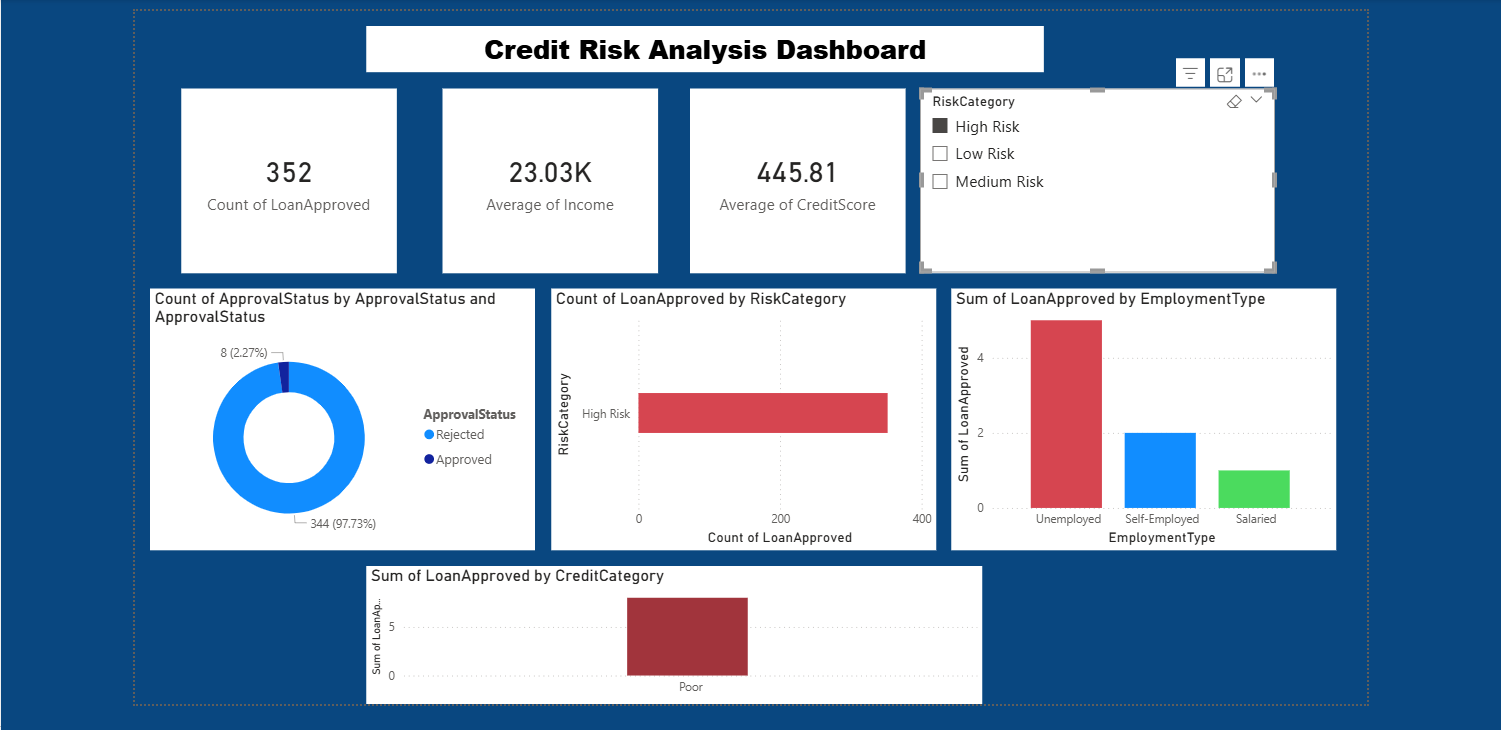

What the dashboard file says about the page in this screenshot:
{"tool":"powerbi","page":{"name":"Page 1","canvas":[1280,720],"ordinal":0},"visuals":[{"type":"donutChart","fields":{"Category":["loan_risk_prediction_dataset.ApprovalStatus"],"Series":["loan_risk_prediction_dataset.ApprovalStatus"],"Y":["CountNonNull(loan_risk_prediction_dataset.ApprovalStatus)"]},"box":[16,288,400,272],"z":0},{"type":"clusteredColumnChart","fields":{"Category":["loan_risk_prediction_dataset.EmploymentType"],"Y":["Sum(loan_risk_prediction_dataset.LoanApproved)"]},"box":[848,288,400,272],"z":1000},{"type":"clusteredColumnChart","fields":{"Category":["loan_risk_prediction_dataset.CreditCategory"],"Y":["Sum(loan_risk_prediction_dataset.LoanApproved)"]},"box":[240,576,640,144],"z":2000},{"type":"clusteredBarChart","fields":{"Category":["loan_risk_prediction_dataset.RiskCategory"],"Y":["CountNonNull(loan_risk_prediction_dataset.LoanApproved)"]},"box":[432,288,400,272],"z":3000},{"type":"card","fields":{"Values":["CountNonNull(loan_risk_prediction_dataset.LoanApproved)"]},"box":[48,80,224,192],"z":4000},{"type":"card","fields":{"Values":["Avg(loan_risk_prediction_dataset.CreditScore)"]},"box":[560,80,224,192],"z":5000},{"type":"slicer","fields":{"Values":["loan_risk_prediction_dataset.RiskCategory"]},"box":[816,80,368,192],"z":5500},{"type":"card","fields":{"Values":["Avg(loan_risk_prediction_dataset.Income)"]},"box":[304,80,224,192],"z":6000},{"type":"textbox","box":[240,16,704,48],"z":8000}]}

Visuals, with their boxes in screenshot pixels (x1, y1, x2, y2):
donutChart - loan_risk_prediction_dataset.ApprovalStatus x loan_risk_prediction_dataset.ApprovalStatus: (144,286,531,549)
clusteredColumnChart - loan_risk_prediction_dataset.EmploymentType x Sum(loan_risk_prediction_dataset.LoanApproved): (948,286,1334,549)
clusteredColumnChart - loan_risk_prediction_dataset.CreditCategory x Sum(loan_risk_prediction_dataset.LoanApproved): (361,564,979,703)
clusteredBarChart - loan_risk_prediction_dataset.RiskCategory x CountNonNull(loan_risk_prediction_dataset.LoanApproved): (546,286,932,549)
card - CountNonNull(loan_risk_prediction_dataset.LoanApproved): (175,85,392,270)
card - Avg(loan_risk_prediction_dataset.CreditScore): (670,85,886,270)
slicer - loan_risk_prediction_dataset.RiskCategory: (917,85,1272,270)
card - Avg(loan_risk_prediction_dataset.Income): (423,85,639,270)
textbox: (361,23,1041,70)
